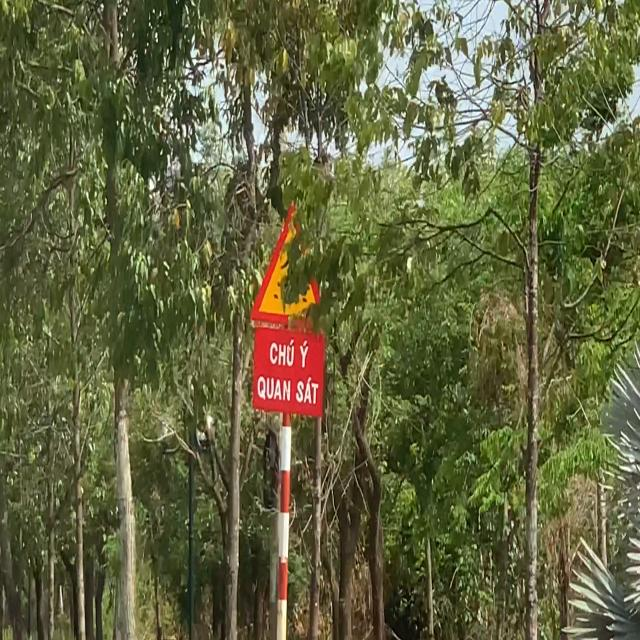Nguoi di bo cat ngang: (252, 200, 328, 326)
